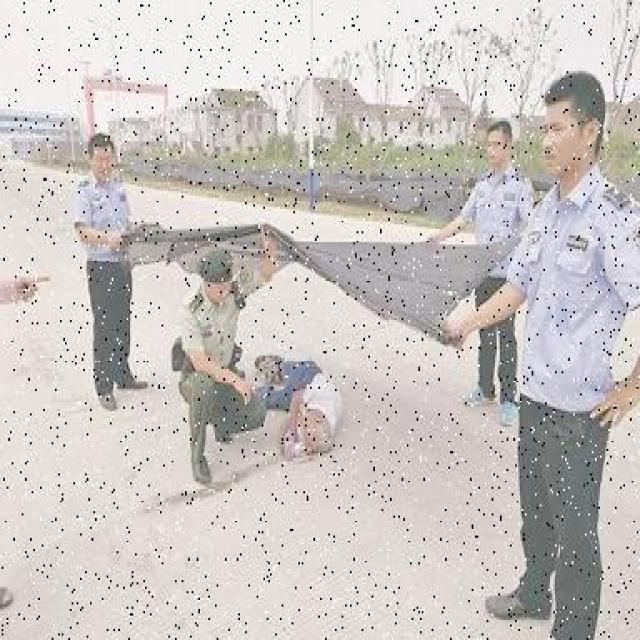fall: (243, 342, 347, 453)
